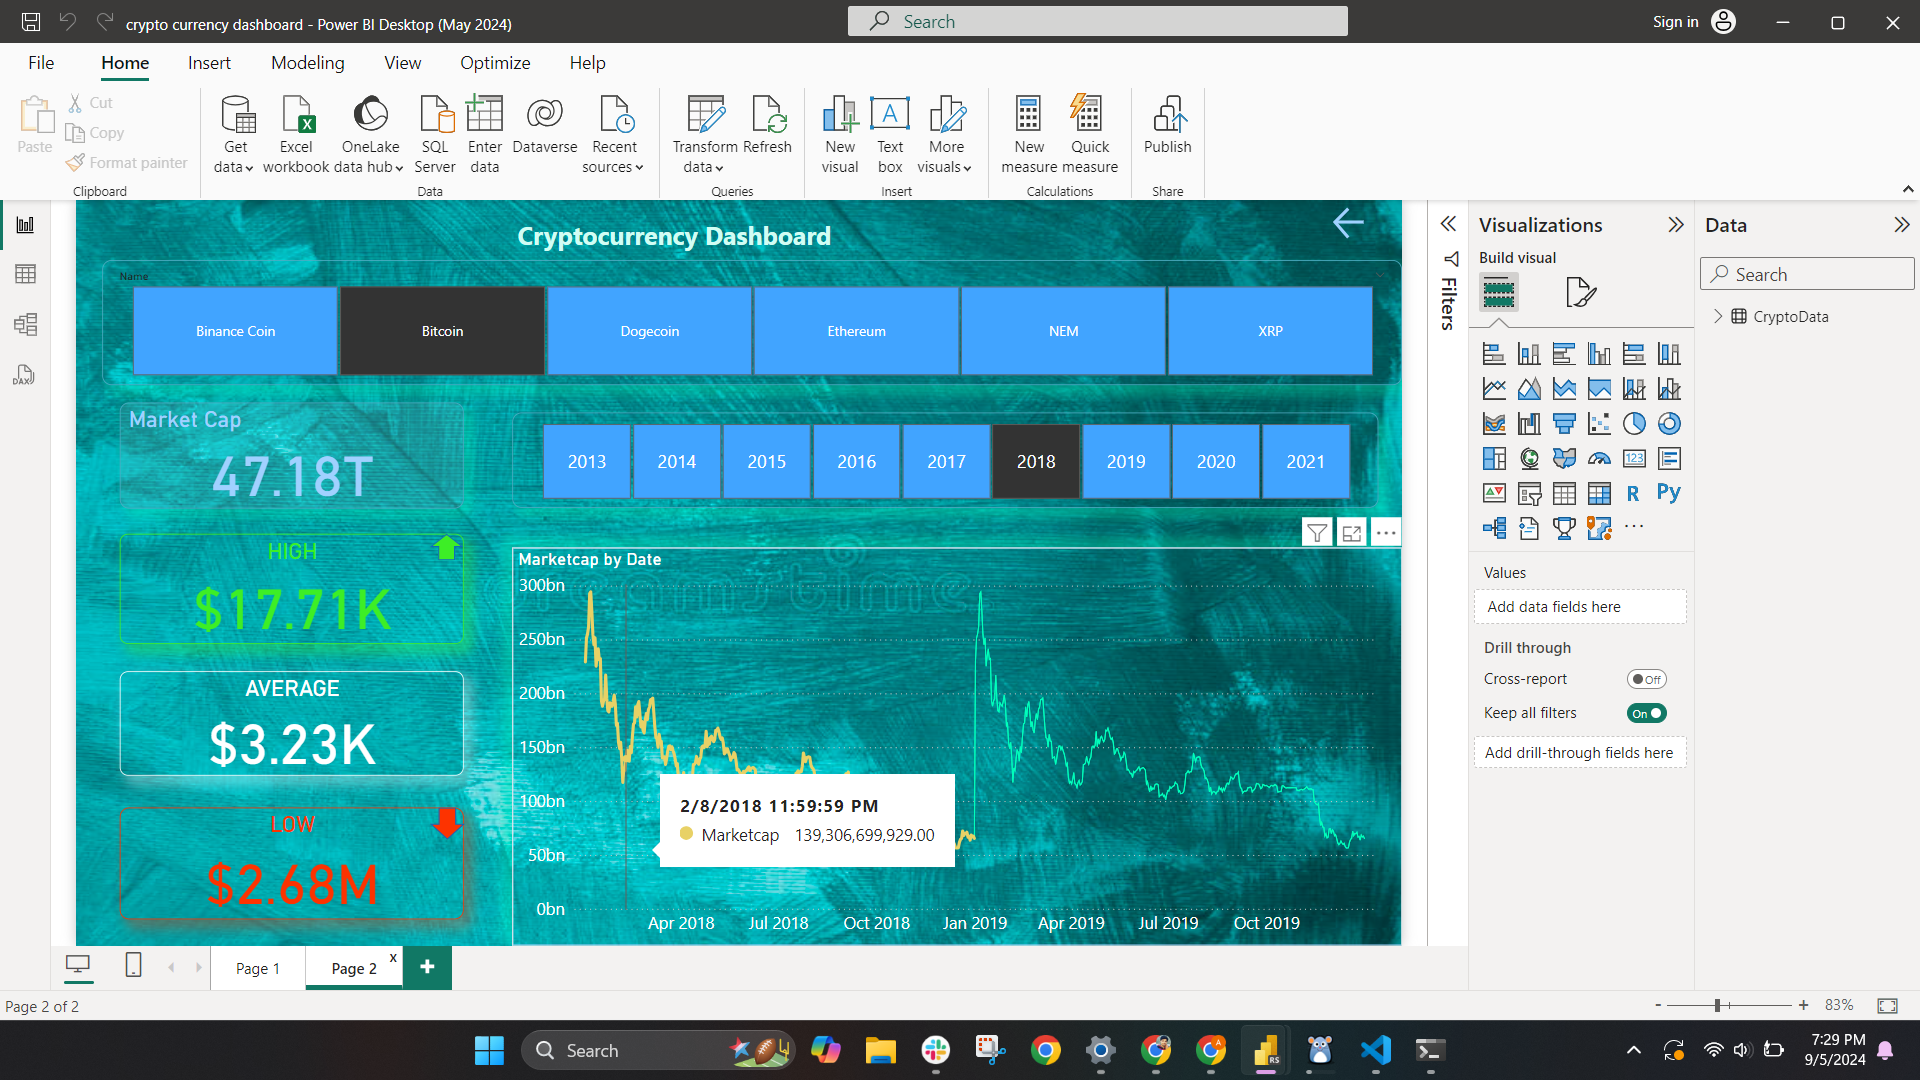

Layout of this report page (visuals, bound fields, positions):
{"tool":"powerbi","page":{"name":"Page 2","canvas":[1280,720],"ordinal":1},"visuals":[{"type":"slicer","fields":{"Values":["CryptoData.Name"]},"box":[25.5,58.1,1254.3,120.5],"z":0},{"type":"slicer","fields":{"Values":["CryptoData.Year"]},"box":[420.9,205.5,836.2,92.1],"z":1000},{"type":"lineChart","fields":{"Y":["Sum(CryptoData.Marketcap)"],"Category":["CryptoData.Date"]},"box":[420.9,335.9,858.9,384.1],"z":2000},{"type":"actionButton","box":[1179.2,2.8,100.6,39.7],"z":2001},{"type":"textbox","box":[420.9,12.8,347.2,45.4],"z":2002},{"type":"card","title":"HIGH","fields":{"Values":["Max(CryptoData.High)"]},"box":[42.5,321.7,331.7,106.3],"z":2003},{"type":"card","title":"AVERAGE","fields":{"Values":["Min(CryptoData.Average)"]},"box":[42.5,455,331.7,100.6],"z":2004},{"type":"card","title":"LOW","fields":{"Values":["Sum(CryptoData.Low)"]},"box":[42.5,586.8,331.7,107.7],"z":2005},{"type":"shape","box":[341.6,321.7,32.6,25.5],"z":2006},{"type":"shape","box":[341.6,586.8,34,31.2],"z":2007},{"type":"card","title":"Market Cap","fields":{"Values":["Sum(CryptoData.Marketcap)"]},"box":[42.5,195.6,331.7,102],"z":2008}]}

Visuals, with their boxes on the page's 1280x720 design canvas (x1, y1, x2, y2). These are canvas units, not pixel positions in the 1920x1080 screenshot, which may show the page scaled, cropped or inside an application window:
slicer - CryptoData.Name: bbox(26, 58, 1280, 179)
slicer - CryptoData.Year: bbox(421, 206, 1257, 298)
lineChart - Sum(CryptoData.Marketcap) x CryptoData.Date: bbox(421, 336, 1280, 720)
actionButton: bbox(1179, 3, 1280, 42)
textbox: bbox(421, 13, 768, 58)
"HIGH" card: bbox(42, 322, 374, 428)
"AVERAGE" card: bbox(42, 455, 374, 556)
"LOW" card: bbox(42, 587, 374, 694)
shape: bbox(342, 322, 374, 347)
shape: bbox(342, 587, 376, 618)
"Market Cap" card: bbox(42, 196, 374, 298)
